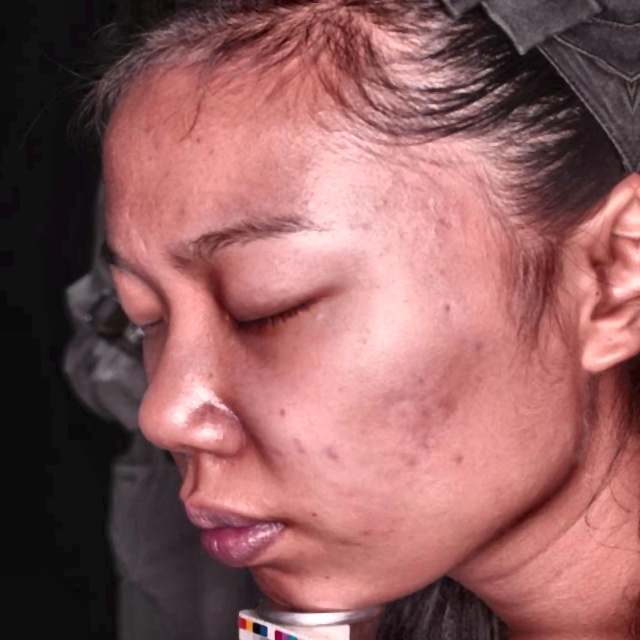comedone: (319, 438, 356, 470), (284, 428, 317, 462)
